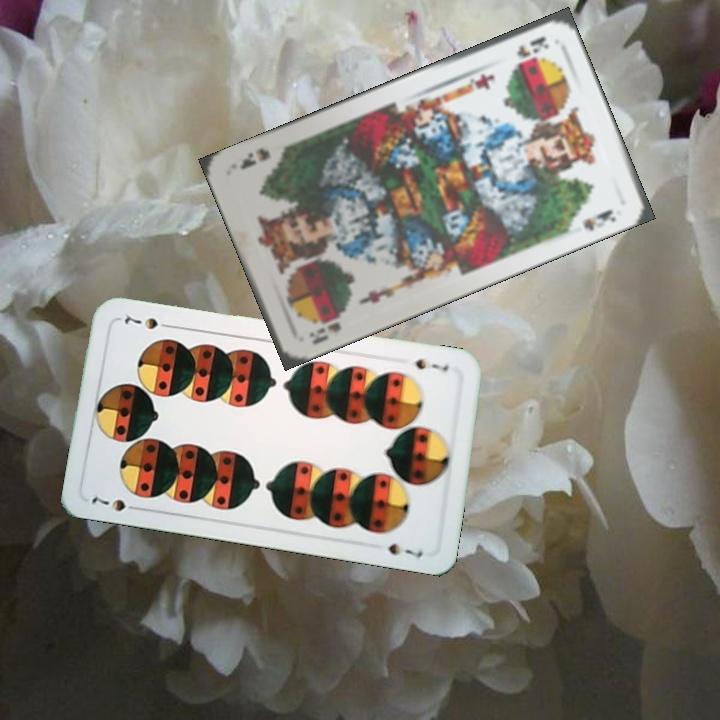S7: (87, 493, 144, 514), (411, 354, 452, 374)
SK: (304, 306, 351, 347), (512, 32, 552, 60)
